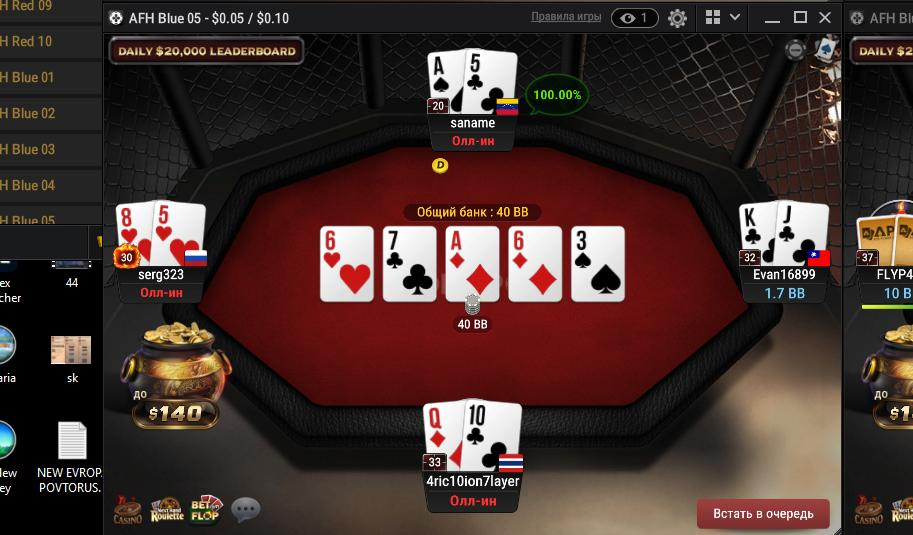10c: (464, 399, 522, 470)
3d: (571, 225, 626, 301)
5c: (465, 48, 516, 114)
5h: (153, 202, 206, 267)
6d: (510, 228, 560, 301)
6h: (321, 226, 374, 300)
7c: (384, 226, 438, 299)
8h: (116, 202, 151, 265)
Ad: (446, 227, 498, 301)
As: (427, 49, 466, 119)
Jc: (776, 199, 829, 266)
Kc: (739, 201, 776, 266)
Qd: (424, 399, 464, 471)
